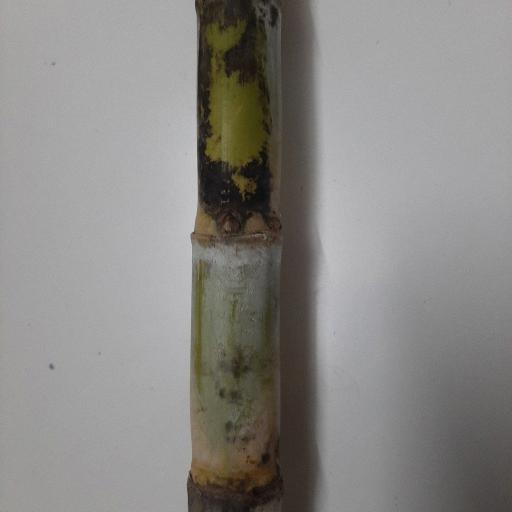Bud: (216, 213, 239, 236)
